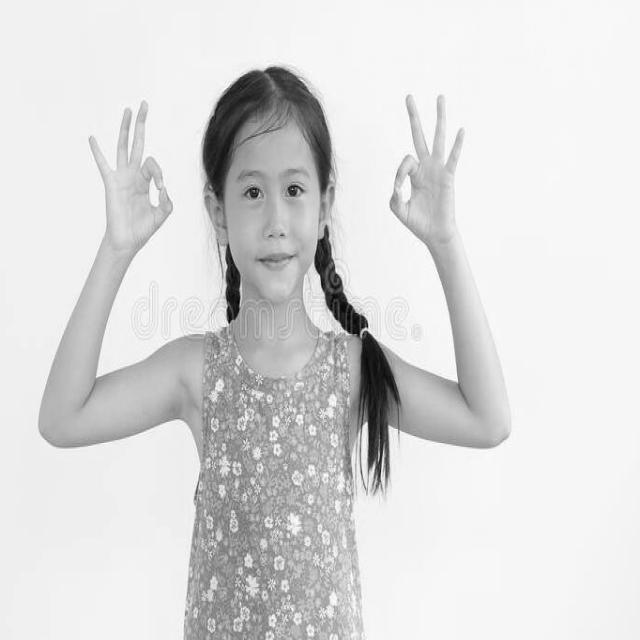perfect: (82, 93, 180, 266), (384, 85, 469, 252)
